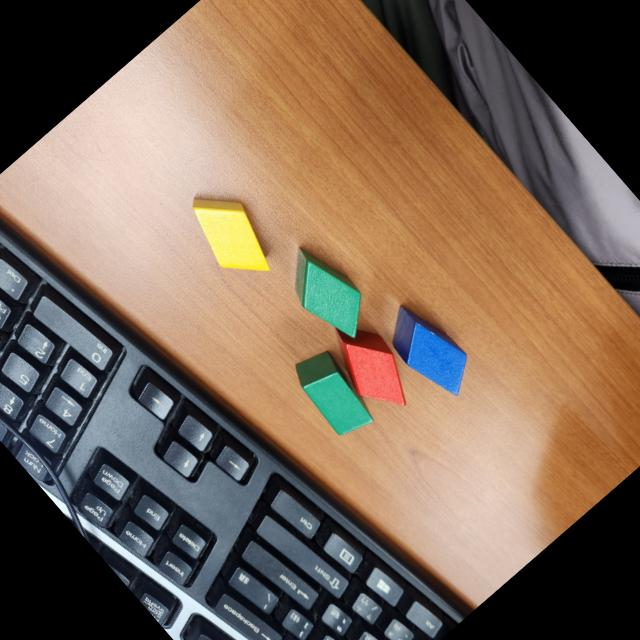blue: (392, 304, 466, 397)
green: (270, 236, 382, 352), (284, 340, 384, 445)
red: (314, 308, 426, 425)
yellow: (174, 176, 290, 296)
